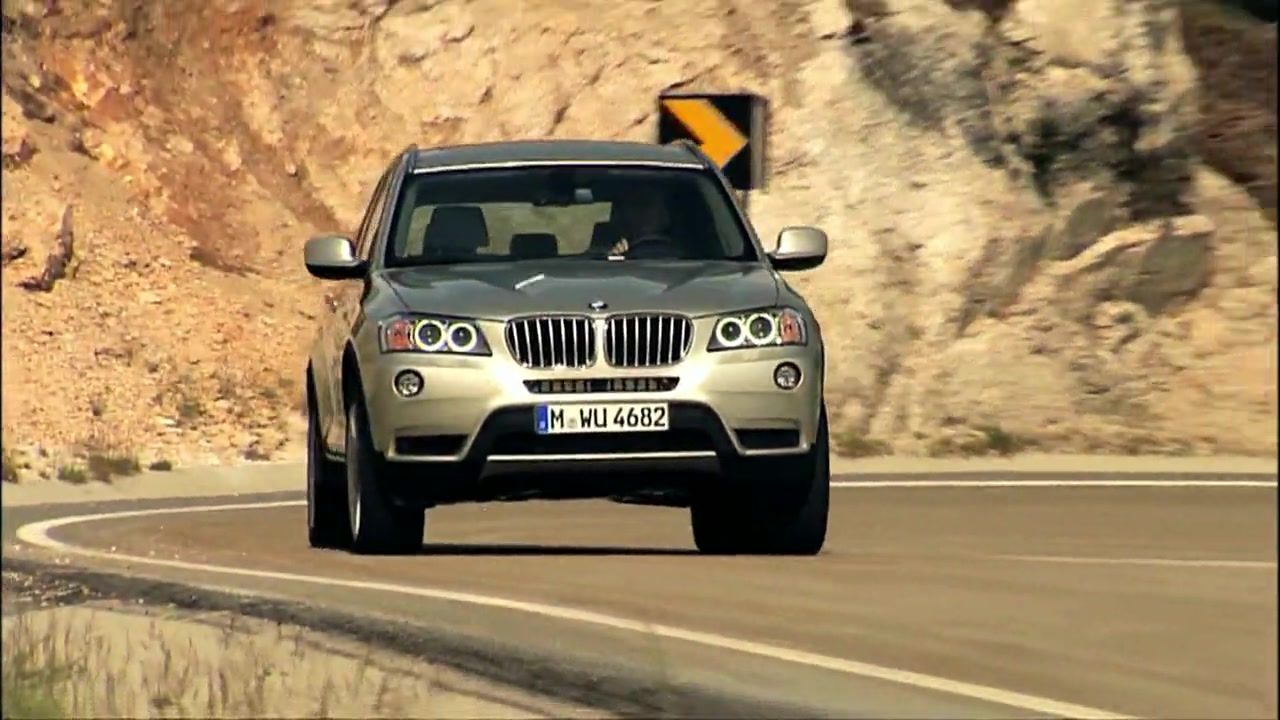car: (300, 138, 830, 560)
